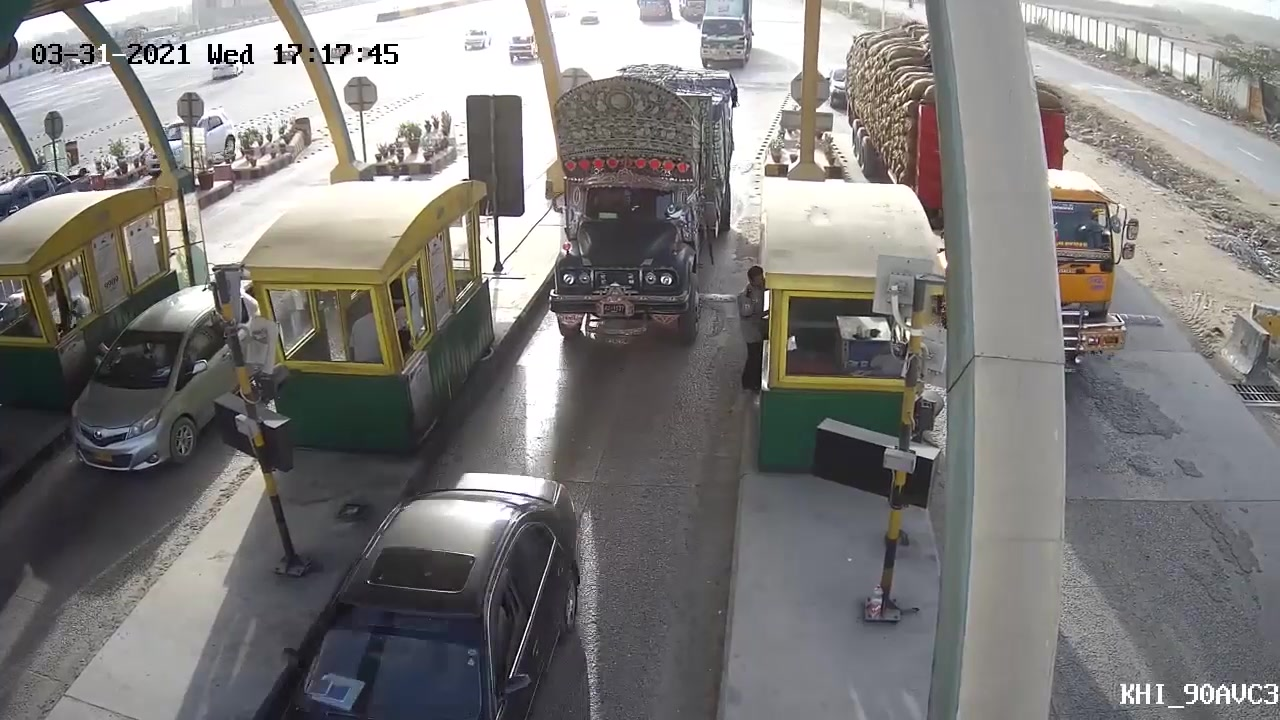F5: (540, 63, 738, 348)
